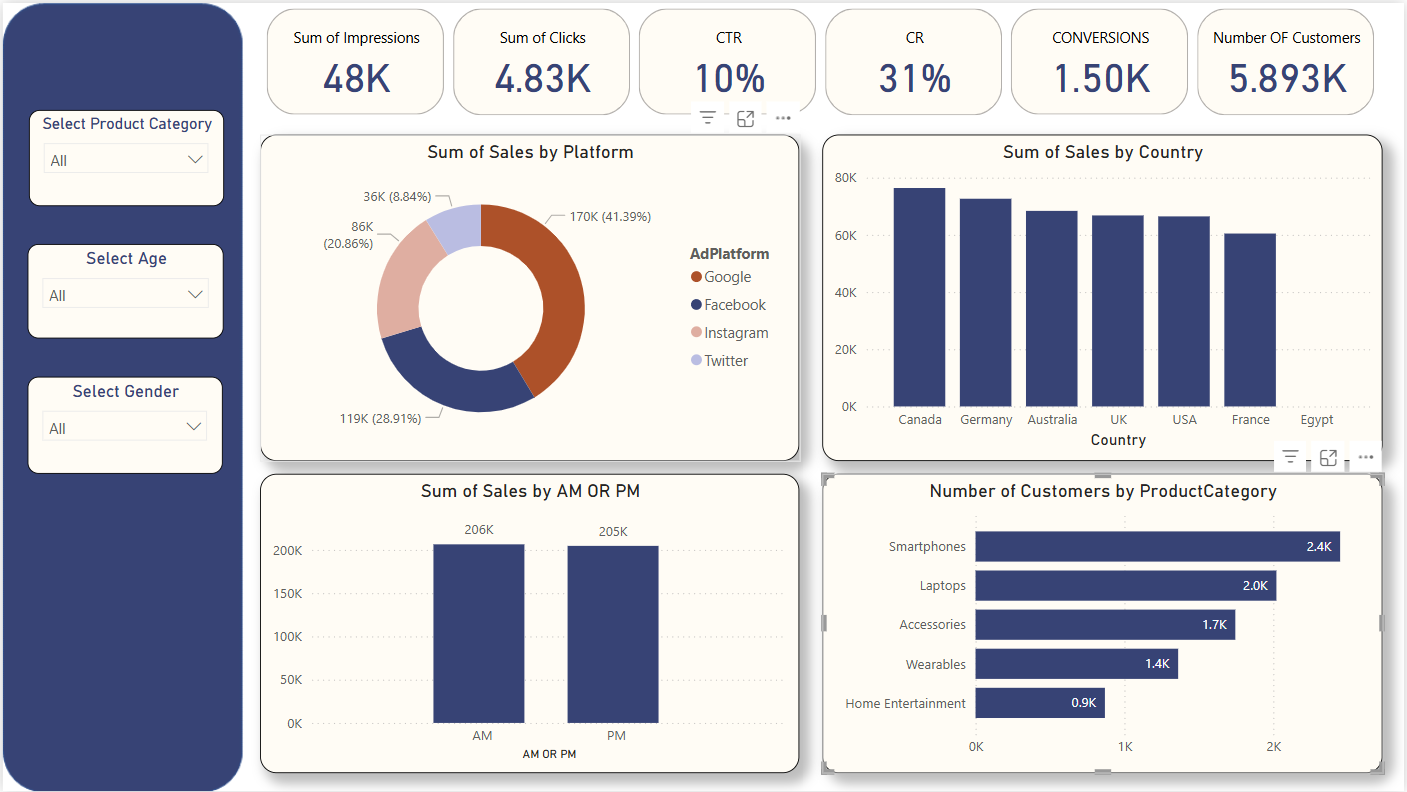

The dashboard page shown, as its layout file describes it:
{"tool":"powerbi","page":{"name":"Dashboard","canvas":[1280,720],"ordinal":0},"visuals":[{"type":"cardVisual","fields":{"Data":["Sum(FitBitDataMarketing.Impressions)","Sum(FitBitDataMarketing.Clicks)","FitBitDataMarketing.CTR","FitBitDataMarketing.CR","FitBitDataMarketing.CONVERSIONS","FitBitDataMarketing.# OF CUSTOMERS"]},"box":[235.7,0,1025.7,107.1],"z":0},{"type":"donutChart","title":"Sum of Sales by Platform","fields":{"Y":["Sum(FitBitDataMarketing.Sales)"],"Category":["FitBitDataMarketing.AdPlatform"]},"box":[235.5,120.5,492.9,298.5],"z":1000},{"type":"columnChart","fields":{"Category":["FitBitDataMarketing.AM OR PM"],"Y":["Sum(FitBitDataMarketing.Sales)"]},"box":[235.5,430,492.9,273.9],"z":2000},{"type":"columnChart","fields":{"Y":["Sum(FitBitDataMarketing.Sales)"],"Category":["FitBitDataMarketing.Country"]},"box":[749,120.5,512.1,298.5],"z":3000},{"type":"clusteredBarChart","title":"Number of Customers by ProductCategory","fields":{"Category":["FitBitDataMarketing.ProductCategory"],"Y":["FitBitDataMarketing.# OF CUSTOMERS"]},"box":[749,430,512.1,273.9],"z":4000},{"type":"slicer","title":"Select Product Category","fields":{"Values":["FitBitDataMarketing.ProductCategory"]},"box":[23.3,97.2,178,87.6],"z":6000},{"type":"slicer","title":"Select Age","fields":{"Values":["FitBitDataMarketing.AgeGroup"]},"box":[21.9,219.8,179.4,86.3],"z":7000},{"type":"slicer","title":"Select Gender","fields":{"Values":["FitBitDataMarketing.Gender"]},"box":[21.9,341,178,89],"z":8000}]}

Visuals, with their boxes in screenshot pixels (x1, y1, x2, y2), scaled from the page's 1280x720 canvas onto the 1407x792 screenshot:
cardVisual - Sum(FitBitDataMarketing.Impressions) x Sum(FitBitDataMarketing.Clicks): box(259, 0, 1387, 118)
"Sum of Sales by Platform" donutChart: box(259, 133, 801, 461)
columnChart - FitBitDataMarketing.AM OR PM x Sum(FitBitDataMarketing.Sales): box(259, 473, 801, 774)
columnChart - Sum(FitBitDataMarketing.Sales) x FitBitDataMarketing.Country: box(823, 133, 1386, 461)
"Number of Customers by ProductCategory" clusteredBarChart: box(823, 473, 1386, 774)
"Select Product Category" slicer: box(26, 107, 221, 203)
"Select Age" slicer: box(24, 242, 221, 337)
"Select Gender" slicer: box(24, 375, 220, 473)
